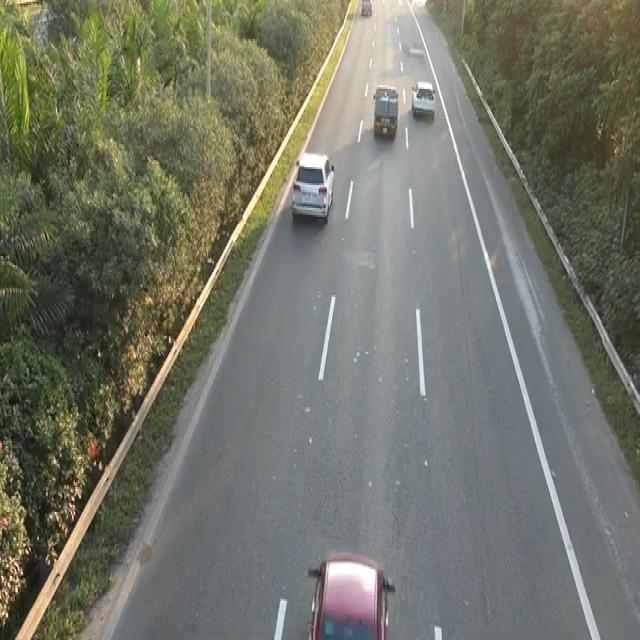bus: (305, 548, 397, 638)
car: (289, 148, 338, 230), (410, 77, 436, 119)
minivan: (371, 82, 399, 140)
